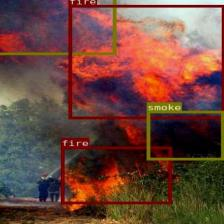fire: (68, 5, 224, 119), (61, 146, 172, 204)
smoke: (0, 0, 116, 54), (146, 110, 224, 160)
